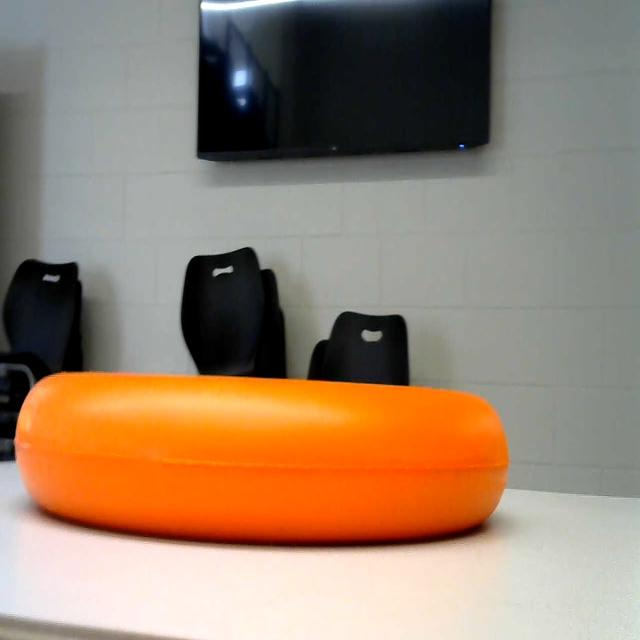note: (16, 353, 520, 558)
